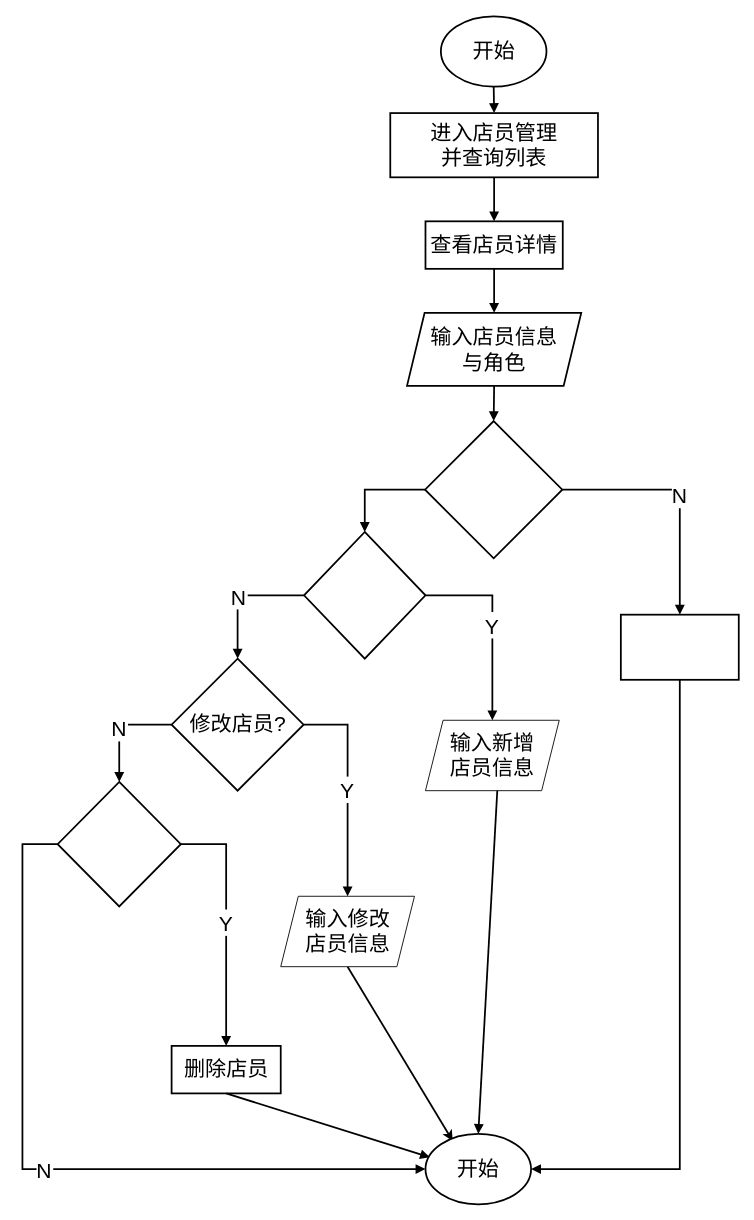
Some shapes in this 754 by 1220 pixel diagram are drawn without their labels. The centre of each missing label's shape, as x and y in pixels:
"删除店员?" belongs at pixel 118 844.
"新增店员?" belongs at pixel 364 595.
"是否 店长权限?" belongs at pixel 493 489.
"没有管理 权限" belongs at pixel 679 646.
